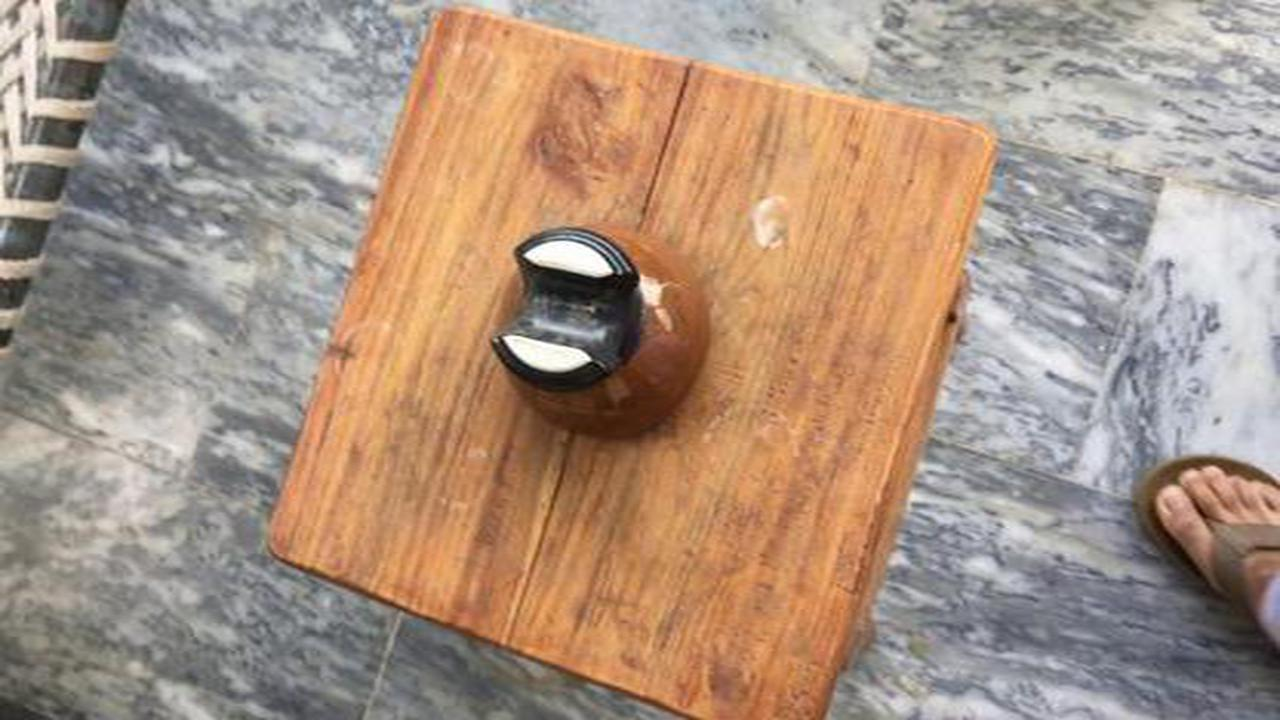insulator_pin: (450, 224, 730, 445)
